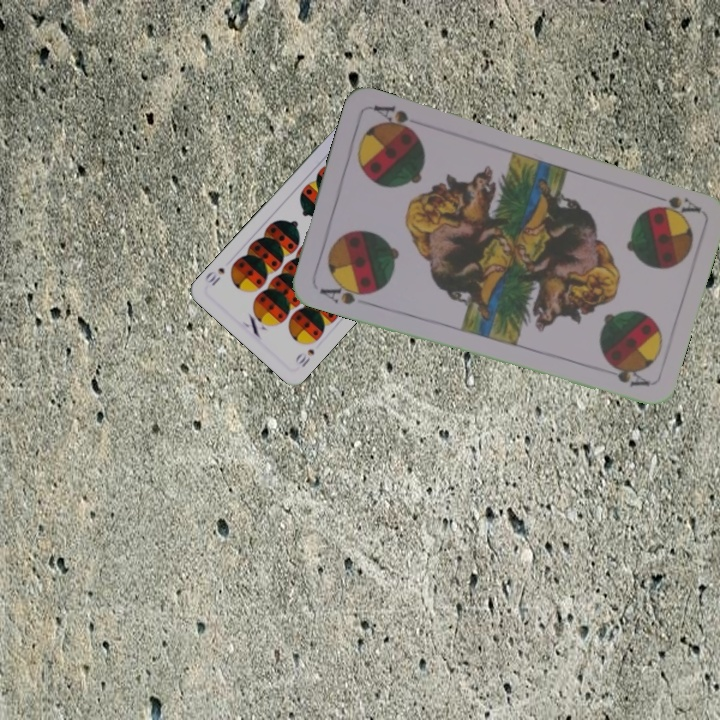S10: (291, 345, 317, 370)
SA: (645, 189, 703, 220), (315, 278, 374, 307)
